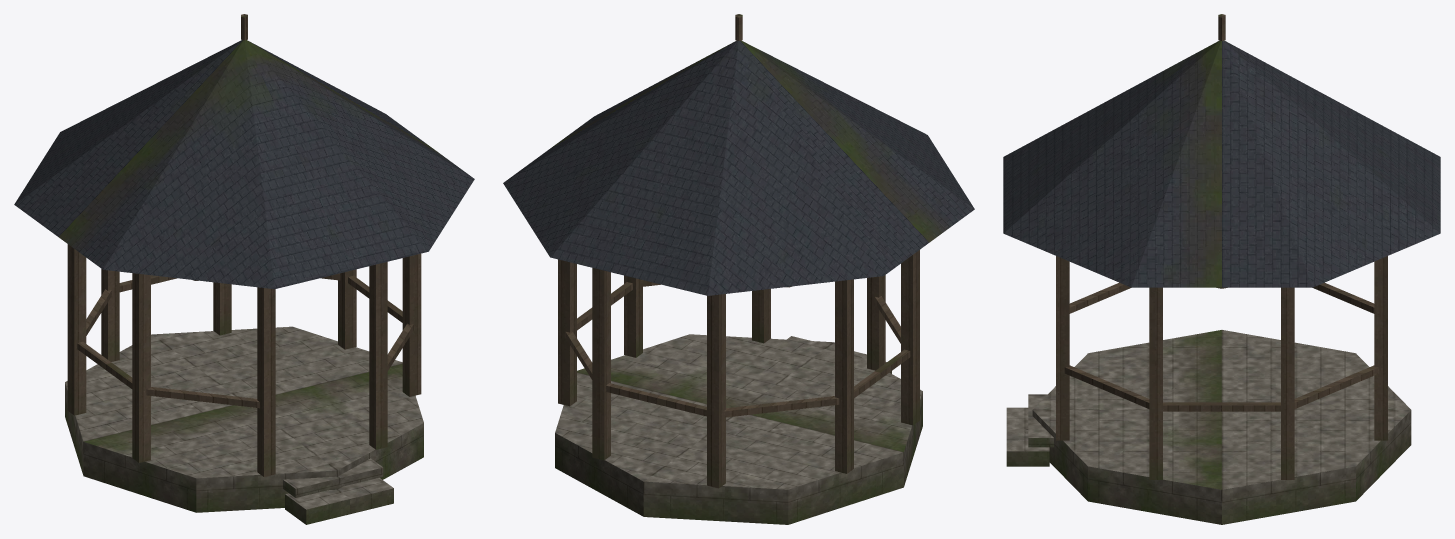
The model's file is bld_gazebo_a_LOD1.glb.
The picture shows the model from 3 angles, left to right: view 1: azimuth 30°, elevation 25°; view 2: azimuth 150°, elevation 25°; view 3: azimuth 270°, elevation 25°; orthographic projection. The views are drawn at different scales.
Parts seen in each view (by area): view 1: bld_gazebo_a_slate_roof, bld_gazebo_a_stone, bld_gazebo_a_wood; view 2: bld_gazebo_a_slate_roof, bld_gazebo_a_stone, bld_gazebo_a_wood; view 3: bld_gazebo_a_slate_roof, bld_gazebo_a_stone, bld_gazebo_a_wood.
Boxes of the visible parts, x1=… form: bld_gazebo_a_slate_roof: x1=14, y1=40, x2=474, y2=289; bld_gazebo_a_stone: x1=65, y1=326, x2=423, y2=524; bld_gazebo_a_wood: x1=67, y1=14, x2=421, y2=476; bld_gazebo_a_slate_roof: x1=503, y1=40, x2=974, y2=295; bld_gazebo_a_stone: x1=555, y1=334, x2=922, y2=524; bld_gazebo_a_wood: x1=558, y1=14, x2=919, y2=488; bld_gazebo_a_slate_roof: x1=1003, y1=40, x2=1440, y2=287; bld_gazebo_a_stone: x1=1006, y1=330, x2=1411, y2=524; bld_gazebo_a_wood: x1=1056, y1=14, x2=1387, y2=479.
Bounding box in the file's own units: 5.08 × 5.5 × 5.08.
Materials: 3 (3 with a texture image).
